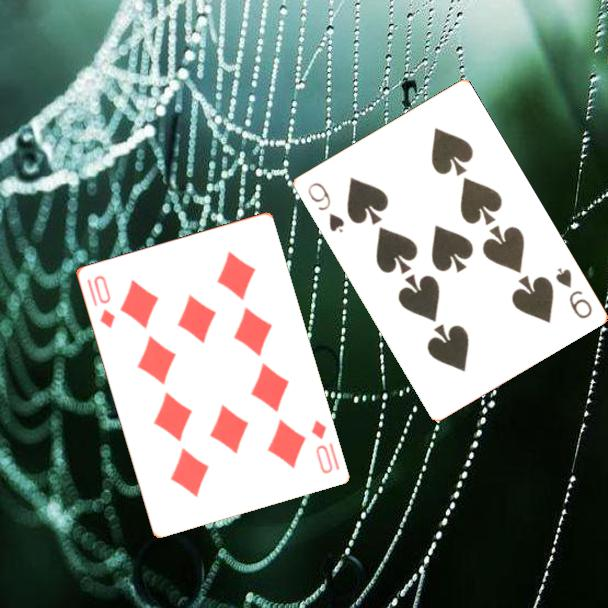d10: (307, 416, 342, 476), (90, 271, 118, 331)
s09: (552, 264, 595, 322), (304, 179, 347, 235)
